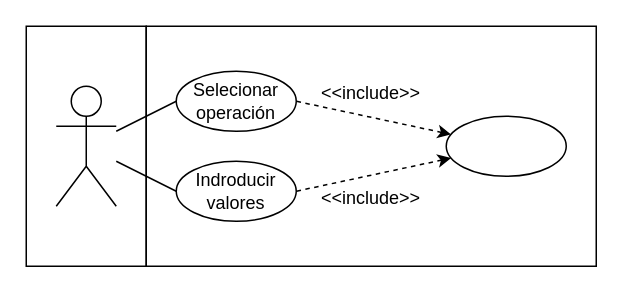
The diagram is 623 pixels wide and 293 high, and some of its shapes have lost their labels. Here are the shapes that lost their labels. From the top down, the centre of each, then its label:
At (x=85, y=145): "Actor".
At (x=505, y=145): "Mostrar resultado".
